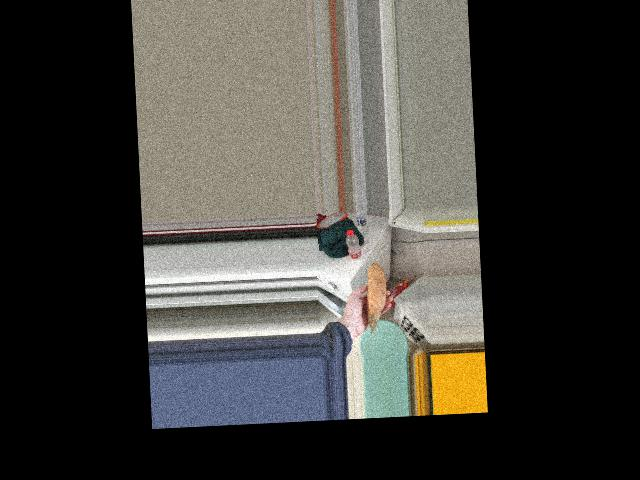sweet_potato: (363, 268, 384, 329)
